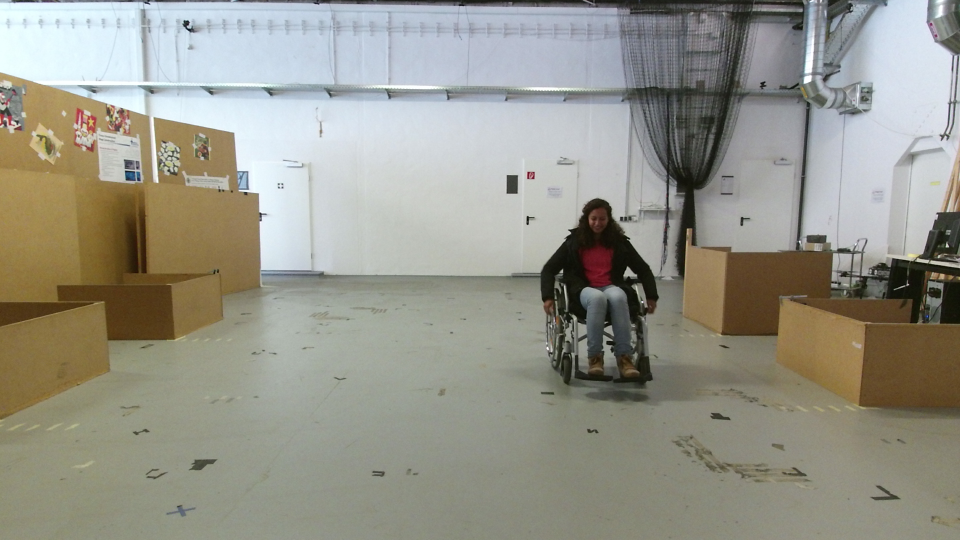wheelchair: (538, 193, 659, 387)
